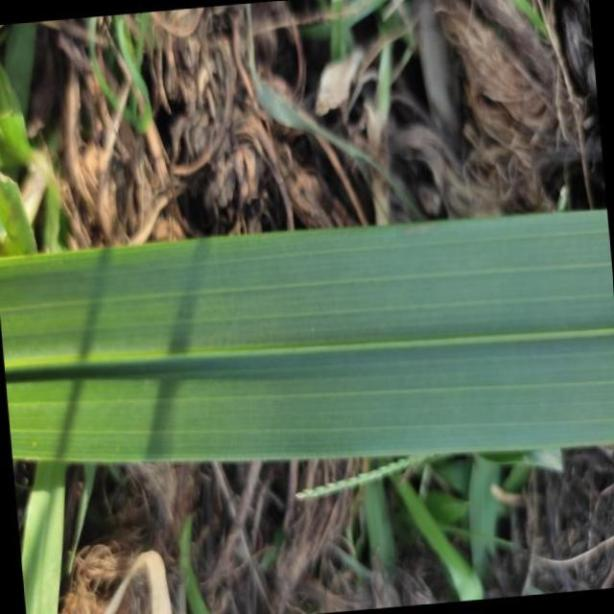Healthy: (3, 206, 614, 466)
